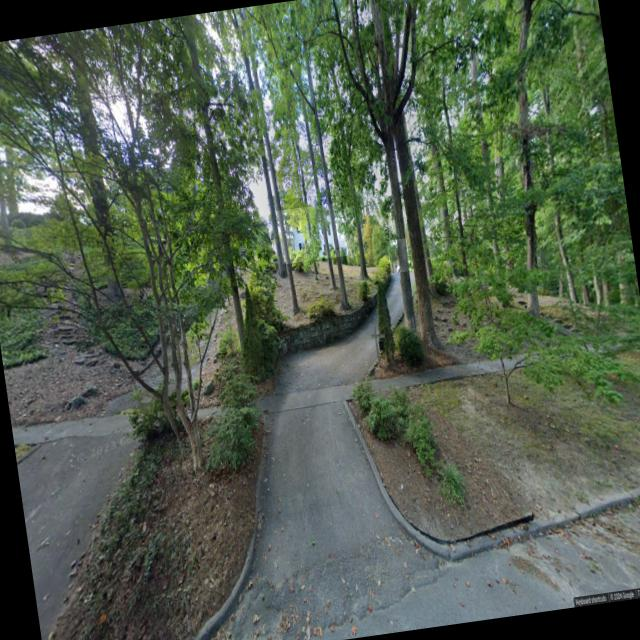House: (276, 202, 348, 264), (387, 238, 411, 274)
